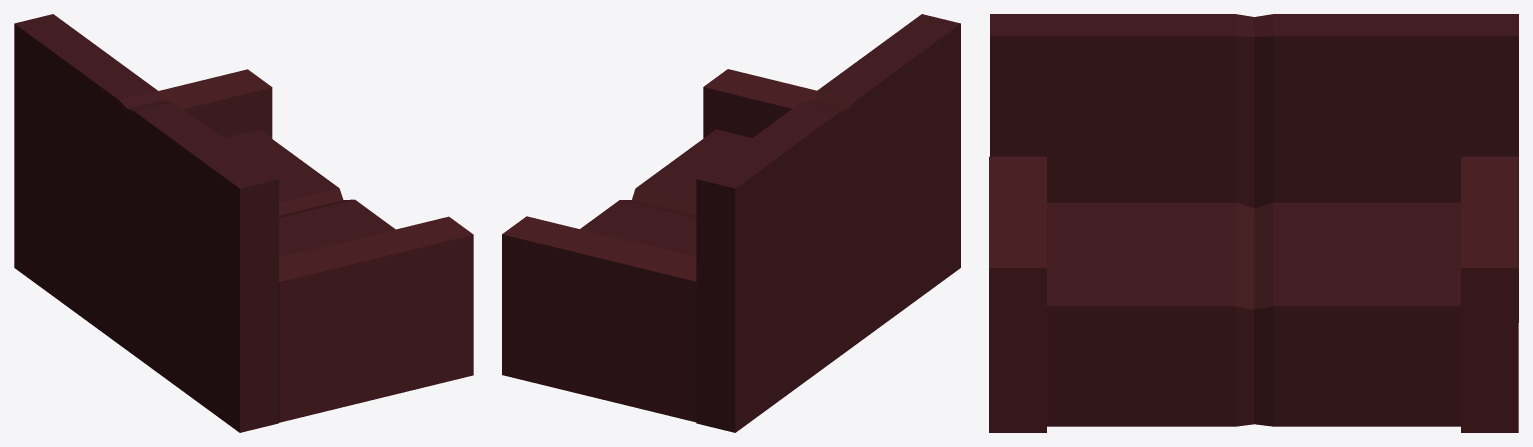
File: Sofa.fbx
The picture shows the model from 3 angles, left to right: view 1: azimuth 30°, elevation 25°; view 2: azimuth 150°, elevation 25°; view 3: azimuth 270°, elevation 25°; orthographic projection. The views are drawn at different scales.
Parts seen in each view (by area): view 1: Cube.019, Cube.017, Cube.016, Cube.018; view 2: Cube.019, Cube.018, Cube.016, Cube.017; view 3: Cube.019, Cube.016, Cube.017, Cube.018.
Boxes of the visible parts, left/top/right/bottom form: Cube.019: left=14, top=14, right=278, bottom=432; Cube.017: left=278, top=216, right=473, bottom=422; Cube.016: left=223, top=129, right=395, bottom=257; Cube.018: left=158, top=69, right=272, bottom=138; Cube.019: left=696, top=14, right=960, bottom=432; Cube.018: left=502, top=216, right=696, bottom=422; Cube.016: left=580, top=129, right=751, bottom=257; Cube.017: left=703, top=69, right=816, bottom=138; Cube.019: left=990, top=14, right=1518, bottom=322; Cube.016: left=1047, top=202, right=1460, bottom=426; Cube.017: left=989, top=156, right=1046, bottom=432; Cube.018: left=1461, top=156, right=1518, bottom=432.
Bounding box in the file's own units: 347 × 347 × 582.
